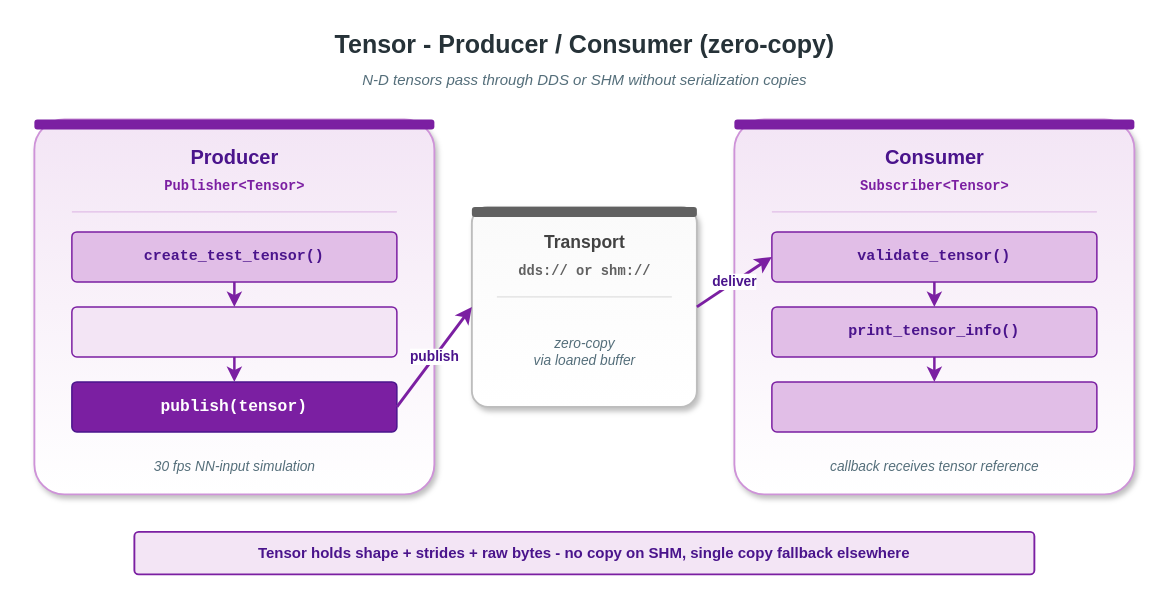
The diagram is 1168 pixels wide and 596 high, and some of its shapes have lost their labels. The centre of each missing label's shape, as x and y in pixels:
"compute_stats(min/max/mean)" goes at [933,406].
"fill NCHW float32 (1x3x224x224)" goes at [233,331].
